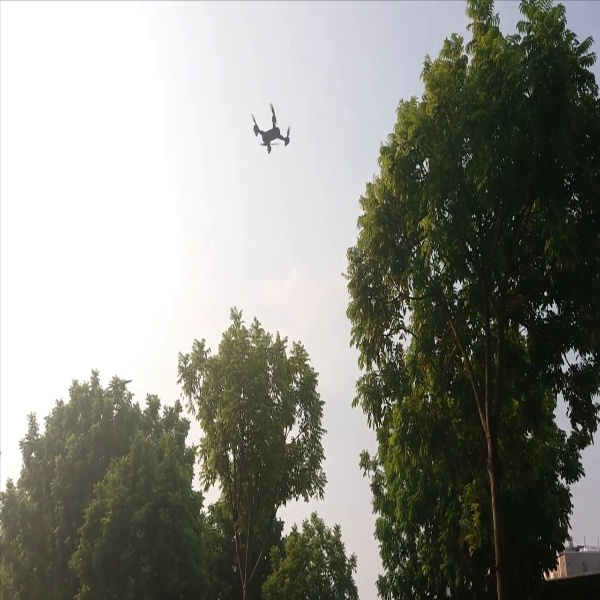drone: (242, 104, 296, 155)
